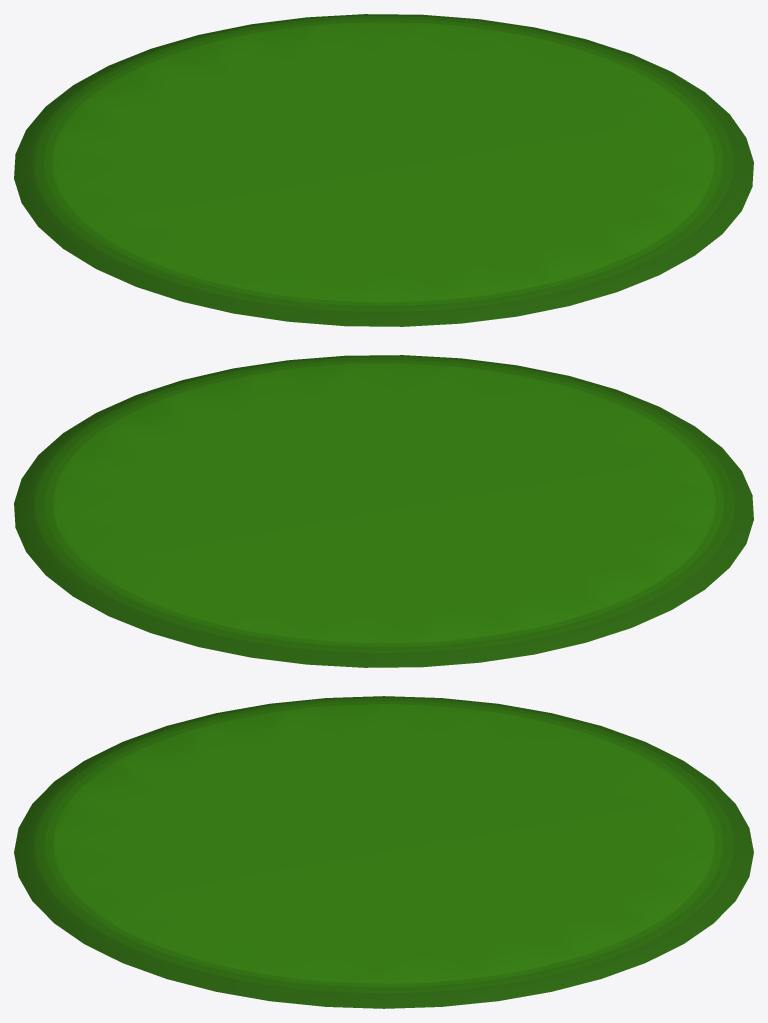
The picture shows the model from 3 angles, top to bottom: view 1: azimuth 30°, elevation 25°; view 2: azimuth 150°, elevation 25°; view 3: azimuth 270°, elevation 25°; orthographic projection.
Visible parts, largest first — view 1: Pod; view 2: Pod; view 3: Pod.
Boxes of the visible parts, left/top/right/bottom form: Pod: left=14, top=14, right=753, bottom=326; Pod: left=14, top=355, right=753, bottom=667; Pod: left=14, top=696, right=753, bottom=1008.
Size of what is drawn, in the model's own units: 42.65 by 0.5984 by 42.65.
1 material, 1 textured.
